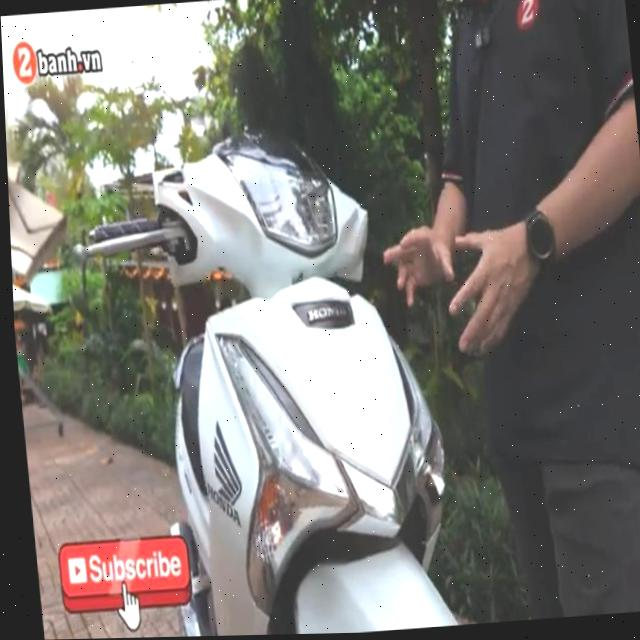motorcycle: (67, 114, 477, 639)
